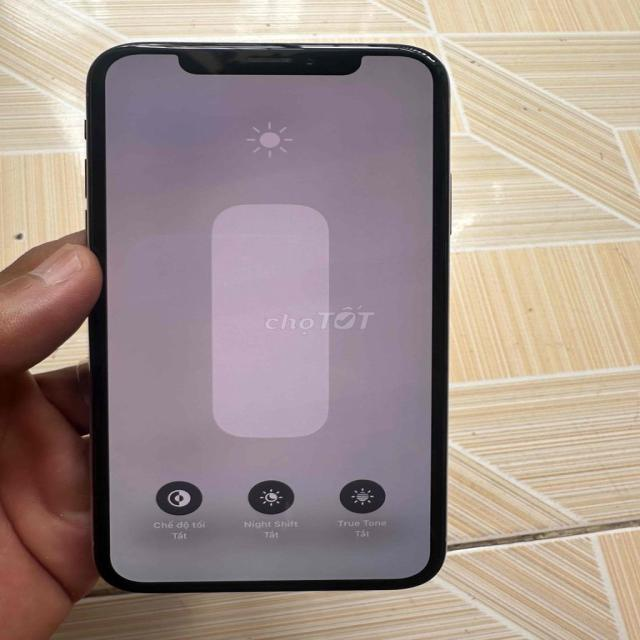gen_x_xs: (59, 32, 477, 595)
